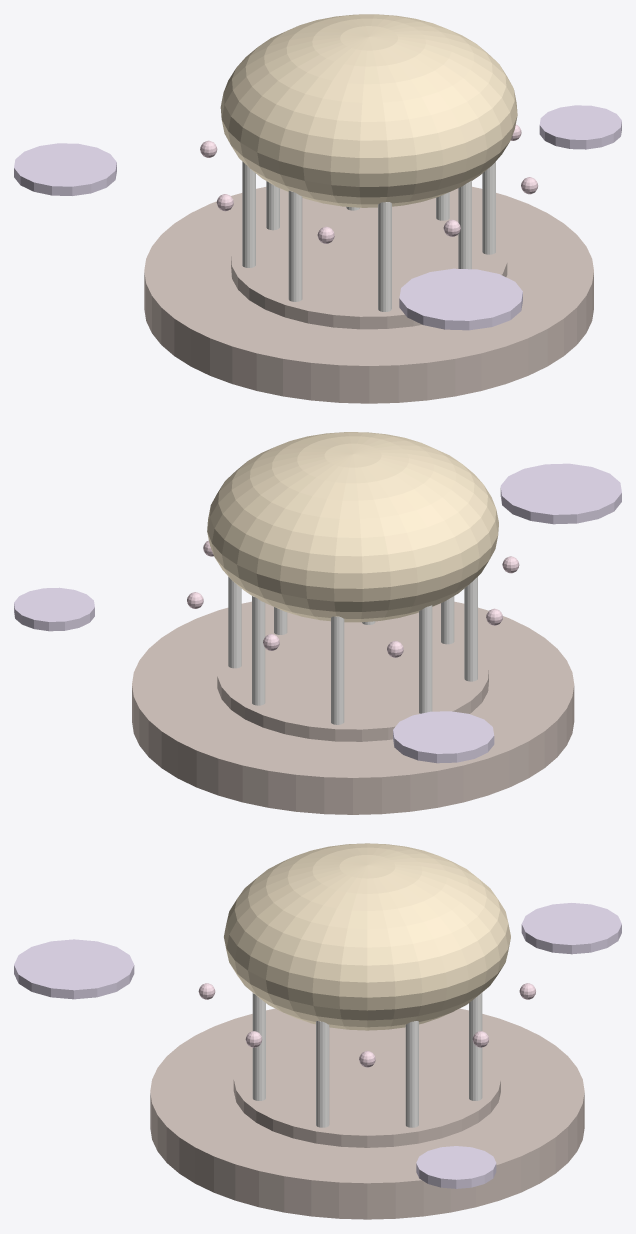
Rendered from nikki_sanctuary.fbx.
3 renders of one model, top to bottom at view 1: azimuth 30°, elevation 25°; view 2: azimuth 150°, elevation 25°; view 3: azimuth 270°, elevation 25°, orthographic. The views are drawn at different scales.
Parts seen in each view (by area): view 1: nikki_island, nikki_dome, nikki_floor, nikki_fragment_02, nikki_fragment_01, nikki_fragment_00, nikki_pillar_05, nikki_pillar_06, nikki_pillar_04, nikki_pillar_00, nikki_pillar_07, nikki_pillar_03; view 2: nikki_island, nikki_dome, nikki_floor, nikki_fragment_02, nikki_fragment_01, nikki_fragment_00, nikki_pillar_03, nikki_pillar_04, nikki_pillar_02, nikki_pillar_05, nikki_pillar_01, nikki_pillar_06; view 3: nikki_island, nikki_dome, nikki_floor, nikki_fragment_02, nikki_fragment_01, nikki_fragment_00, nikki_pillar_01, nikki_pillar_00, nikki_pillar_07, nikki_pillar_02.
Boxes of the visible parts, bbox=[...] form: nikki_island: bbox=[144, 186, 593, 403]; nikki_dome: bbox=[220, 14, 517, 207]; nikki_floor: bbox=[231, 203, 507, 329]; nikki_fragment_02: bbox=[399, 268, 522, 330]; nikki_fragment_01: bbox=[14, 143, 116, 195]; nikki_fragment_00: bbox=[539, 105, 621, 149]; nikki_pillar_05: bbox=[288, 190, 302, 301]; nikki_pillar_06: bbox=[378, 202, 391, 311]; nikki_pillar_04: bbox=[242, 161, 255, 267]; nikki_pillar_00: bbox=[482, 161, 495, 254]; nikki_pillar_07: bbox=[458, 180, 471, 269]; nikki_pillar_03: bbox=[266, 181, 279, 230]; nikki_island: bbox=[132, 601, 574, 814]; nikki_dome: bbox=[207, 432, 498, 622]; nikki_floor: bbox=[217, 618, 488, 741]; nikki_fragment_02: bbox=[500, 463, 621, 524]; nikki_fragment_01: bbox=[393, 711, 494, 763]; nikki_fragment_00: bbox=[14, 587, 94, 631]; nikki_pillar_03: bbox=[331, 616, 344, 724]; nikki_pillar_04: bbox=[419, 605, 432, 713]; nikki_pillar_02: bbox=[252, 595, 265, 705]; nikki_pillar_05: bbox=[464, 577, 477, 681]; nikki_pillar_01: bbox=[228, 577, 241, 668]; nikki_pillar_06: bbox=[441, 596, 454, 644]; nikki_island: bbox=[150, 1008, 584, 1219]; nikki_dome: bbox=[224, 843, 510, 1030]; nikki_floor: bbox=[233, 1027, 500, 1147]; nikki_fragment_02: bbox=[14, 939, 134, 999]; nikki_fragment_01: bbox=[521, 903, 621, 954]; nikki_fragment_00: bbox=[416, 1146, 496, 1188]; nikki_pillar_01: bbox=[405, 1021, 418, 1127]; nikki_pillar_00: bbox=[316, 1021, 329, 1127]; nikki_pillar_07: bbox=[252, 993, 265, 1100]; nikki_pillar_02: bbox=[469, 993, 482, 1100].
Bounding box in the file's own units: 1790 × 867 × 1819.
